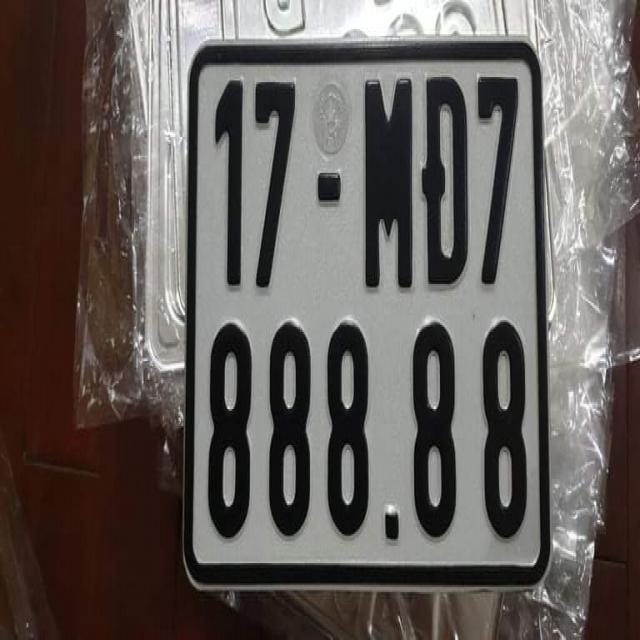1: (210, 70, 245, 291)
7: (249, 70, 299, 291), (474, 67, 520, 289)
8: (478, 313, 530, 544), (408, 315, 460, 541), (204, 315, 255, 542), (265, 313, 314, 539), (323, 315, 372, 539)
D: (421, 65, 471, 293)
M: (360, 68, 416, 294)
